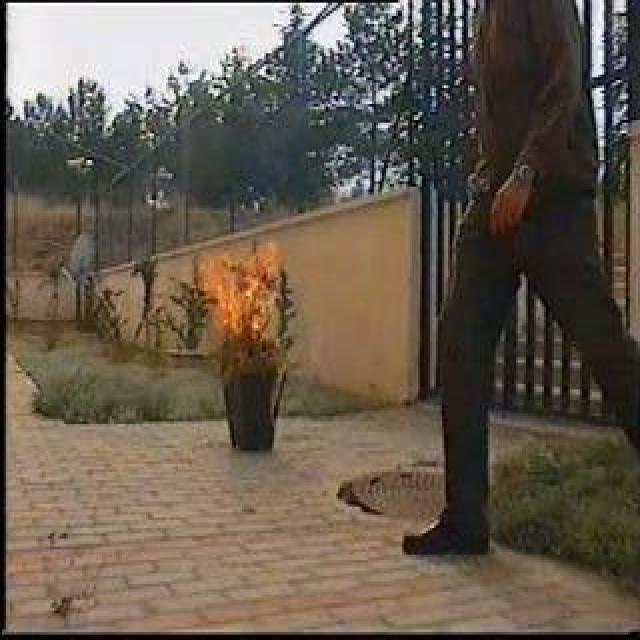Fire: (207, 236, 279, 343)
